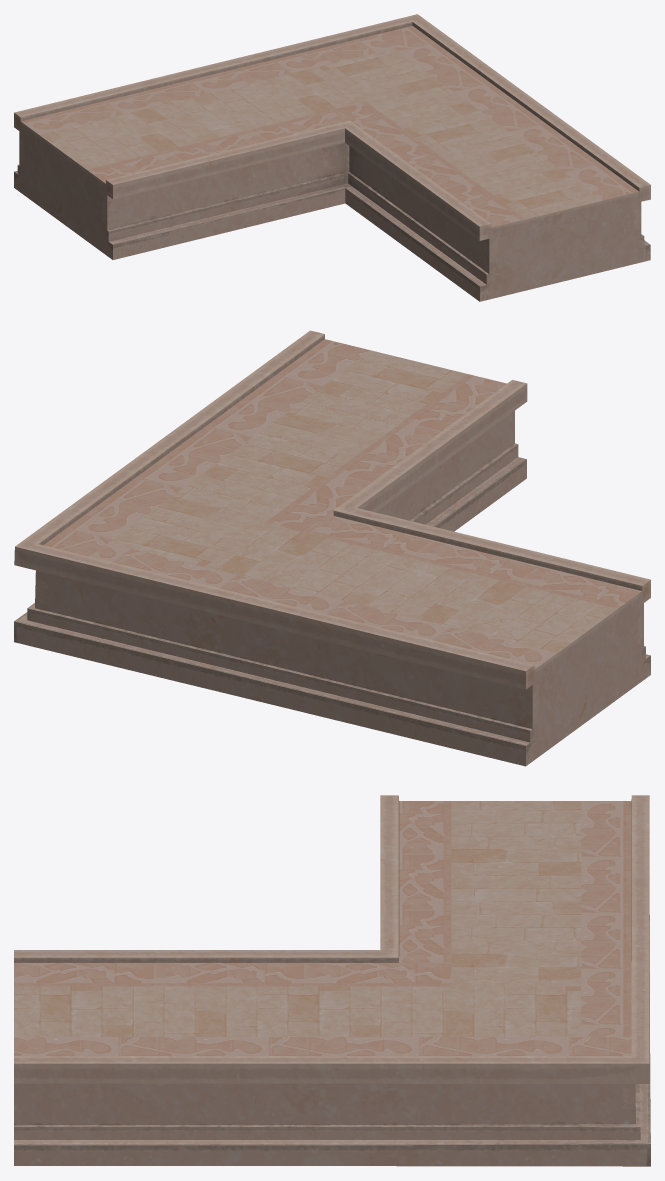
Rendered from 右拐路段.fbx.
3 renders of one model, top to bottom at view 1: azimuth 30°, elevation 25°; view 2: azimuth 150°, elevation 25°; view 3: azimuth 270°, elevation 25°, orthographic. The views are drawn at different scales.
Visible parts, largest first — view 1: 平面.021; view 2: 平面.021; view 3: 平面.021.
Part boxes in pixels (x1,y1,x2,y2): 平面.021: (14, 14, 650, 301); 平面.021: (14, 330, 650, 766); 平面.021: (14, 795, 650, 1166).
Size of the model in its own units: 731 by 130 by 733.
